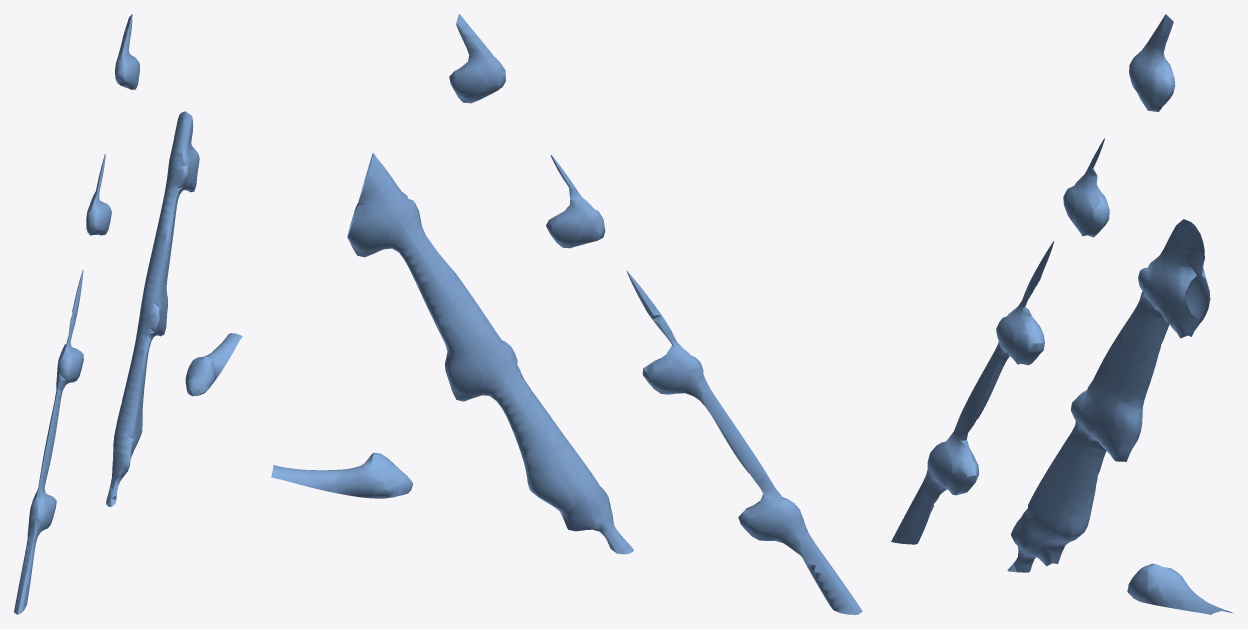
Rendered from detail.mollified.dcfs.-.glb.
3 views of the same model, side by side, from view 1: azimuth 30°, elevation 25°; view 2: azimuth 150°, elevation 25°; view 3: azimuth 270°, elevation 25° (orthographic). The views are drawn at different scales.
Parts seen in each view (by area): view 1: detail.mollified.dcfs.-; view 2: detail.mollified.dcfs.-; view 3: detail.mollified.dcfs.-.
Boxes of the visible parts, x1=… form: detail.mollified.dcfs.-: x1=14, y1=14, x2=242, y2=614; detail.mollified.dcfs.-: x1=271, y1=14, x2=862, y2=614; detail.mollified.dcfs.-: x1=891, y1=14, x2=1233, y2=614.
Bounding box in the file's own units: 1.32 × 1.77 × 0.8197.
